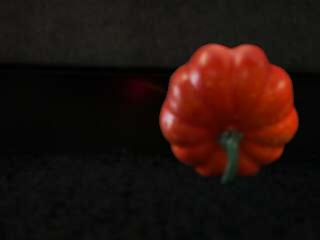Pumpkin: (156, 40, 299, 186)
